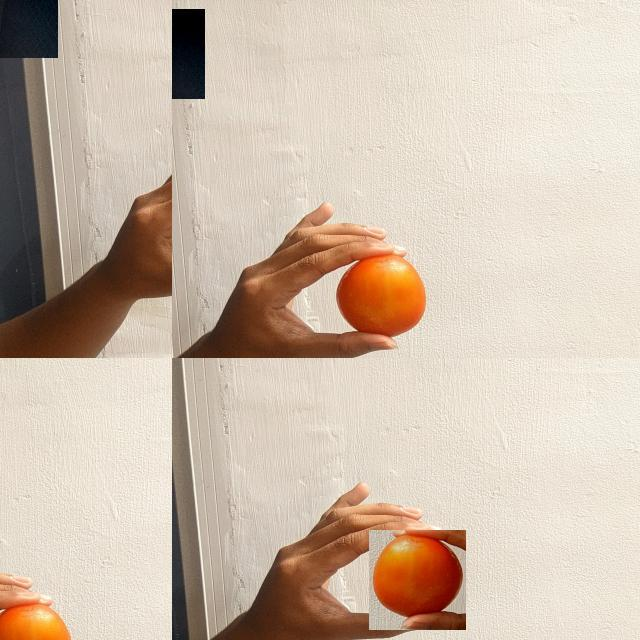Fresh Tomato: (369, 530, 466, 630), (0, 0, 58, 58), (172, 9, 205, 99)
